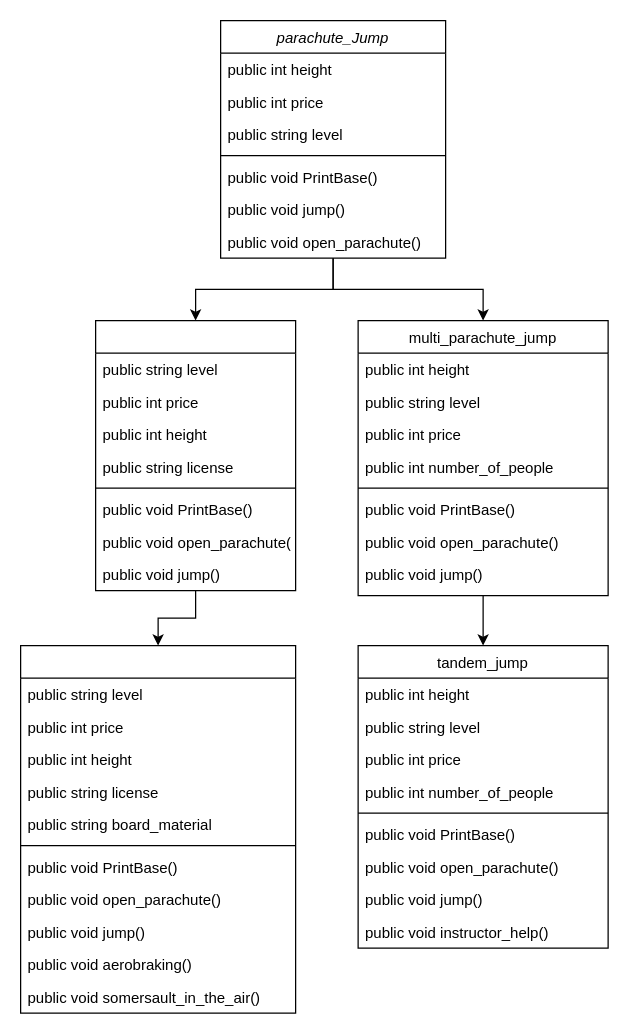
The diagram is 629 pixels wide and 1034 high, and some of its shapes have lost their labels. The shapes that lost their labels are listed below. From the top down, each one's box as (x1, y1, x2, y2) in pixels, then its label:
(94, 319, 296, 591): solo_parachute_jump
(19, 644, 296, 1013): skysurf_jump
